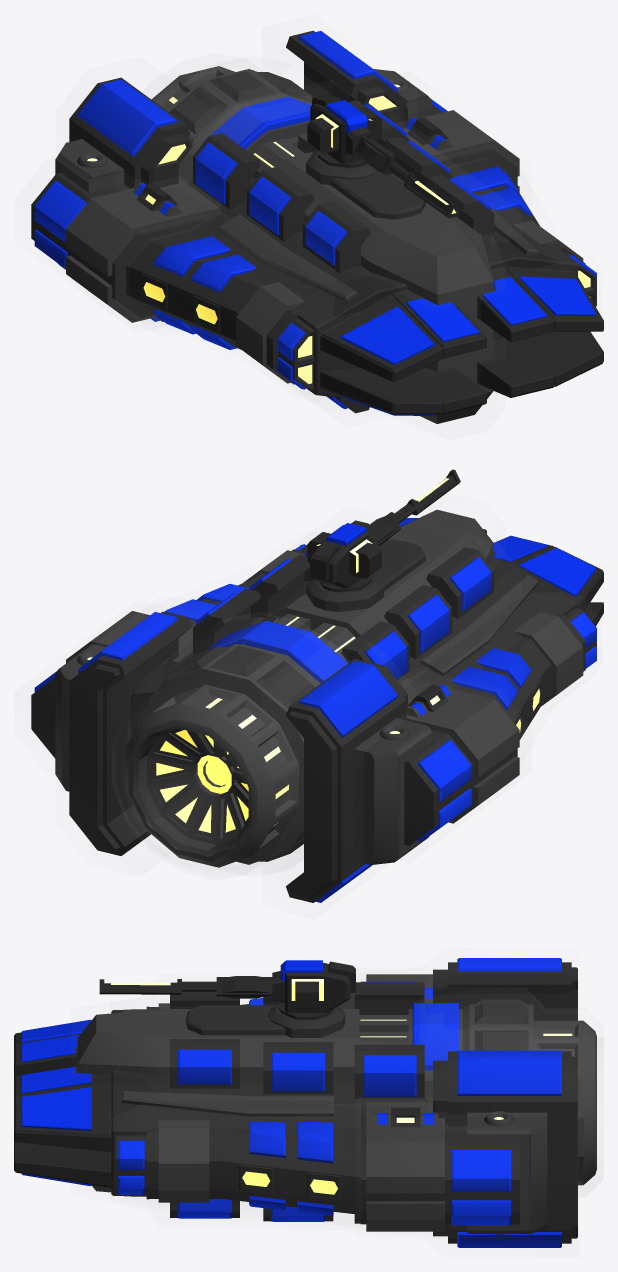
Rendered from 01_ship_capital_hemedall.glb.
3 views of the same model, one above another, from view 1: azimuth 30°, elevation 25°; view 2: azimuth 150°, elevation 25°; view 3: azimuth 270°, elevation 25° (orthographic). The views are drawn at different scales.
Visible parts, largest first — view 1: 01_ship_capital_hemedall_mk3, 01_weapon_hemedall_dustPiercer_barrel, 01_weapon_hemedall_dustPiercer_body; view 2: 01_ship_capital_hemedall_mk3, 01_weapon_hemedall_dustPiercer_body, 01_weapon_hemedall_dustPiercer_barrel; view 3: 01_ship_capital_hemedall_mk3, 01_weapon_hemedall_dustPiercer_barrel, 01_weapon_hemedall_dustPiercer_body.
Part boxes in pixels (left/top/right/bottom): 01_ship_capital_hemedall_mk3: left=31, top=30, right=603, bottom=423; 01_weapon_hemedall_dustPiercer_barrel: left=326, top=100, right=460, bottom=218; 01_weapon_hemedall_dustPiercer_body: left=307, top=94, right=381, bottom=164; 01_ship_capital_hemedall_mk3: left=31, top=509, right=603, bottom=902; 01_weapon_hemedall_dustPiercer_body: left=307, top=531, right=381, bottom=588; 01_weapon_hemedall_dustPiercer_barrel: left=326, top=469, right=460, bottom=545; 01_ship_capital_hemedall_mk3: left=14, top=958, right=596, bottom=1247; 01_weapon_hemedall_dustPiercer_barrel: left=99, top=960, right=322, bottom=1003; 01_weapon_hemedall_dustPiercer_body: left=285, top=961, right=355, bottom=1012.
Size of the model in its own units: 0.6905 by 0.3941 by 0.869.
